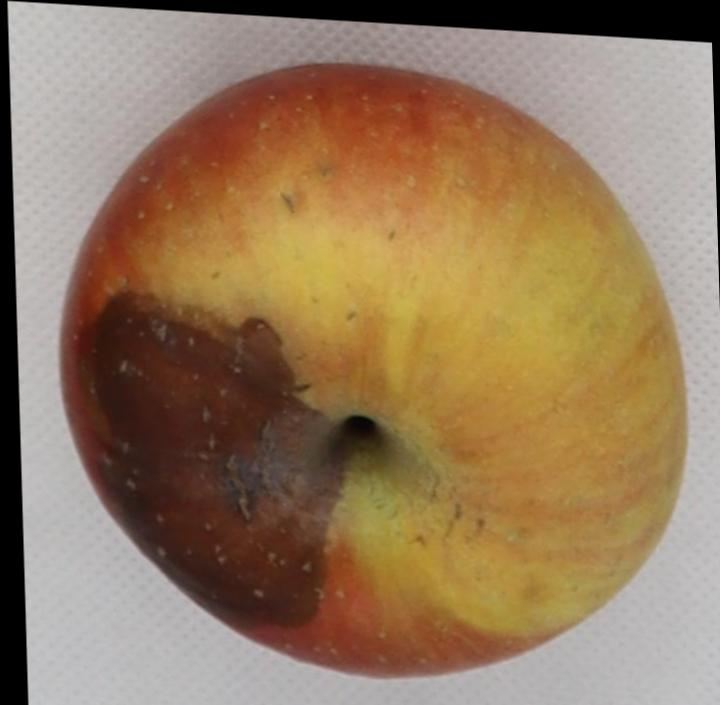apple: (62, 64, 685, 676)
rot_mold_decay: (78, 291, 348, 626)
surface_damage: (445, 502, 462, 534), (280, 191, 293, 211), (477, 514, 485, 528)
